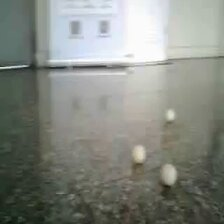w: (158, 163, 176, 185), (131, 144, 145, 162), (165, 109, 177, 122)
